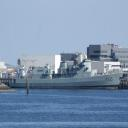Fragata: (10, 53, 126, 90)
